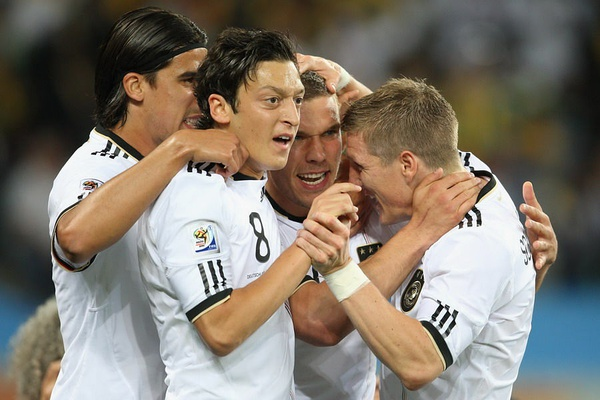face: (232, 57, 305, 170), (144, 39, 206, 144), (292, 105, 343, 207), (348, 131, 399, 225)
